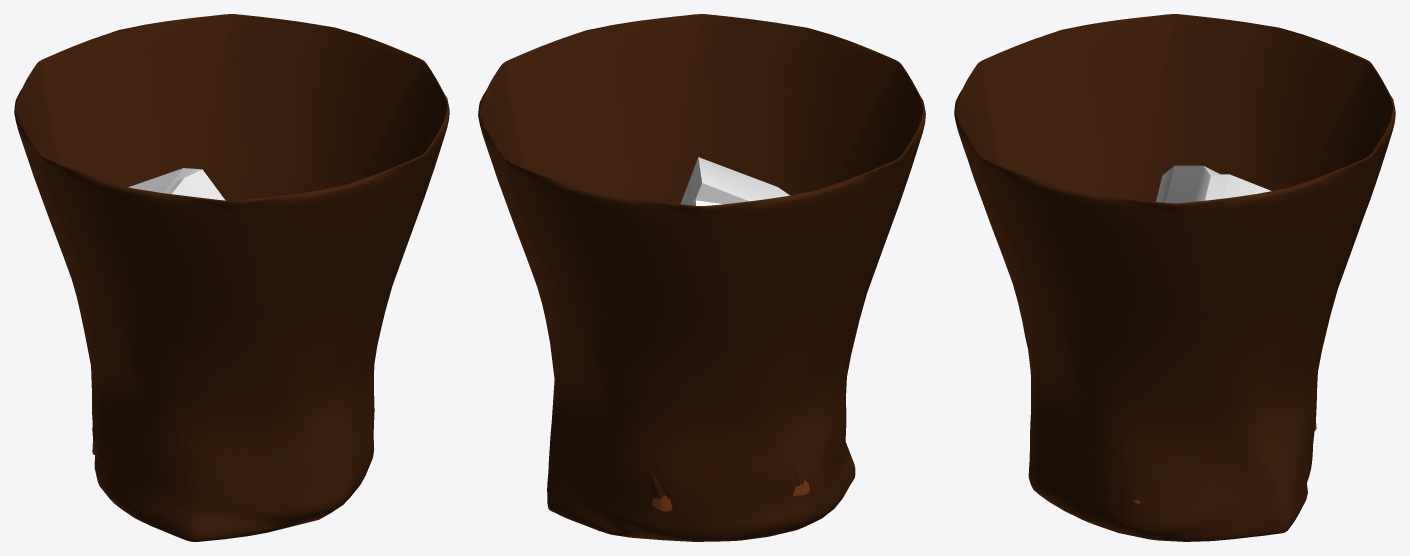
Rendered from glass.glb.
3 views of the same model, side by side, from view 1: azimuth 30°, elevation 25°; view 2: azimuth 150°, elevation 25°; view 3: azimuth 270°, elevation 25° (orthographic). The views are drawn at different scales.
Visible parts, largest first — view 1: Cylinder003, Box010; view 2: Cylinder003, Box009; view 3: Cylinder003, Box010.
Boxes of the visible parts, left/top/right/bottom form: Cylinder003: left=14, top=14, right=449, bottom=541; Box010: left=128, top=168, right=225, bottom=200; Cylinder003: left=478, top=14, right=925, bottom=541; Box009: left=680, top=157, right=789, bottom=205; Cylinder003: left=954, top=14, right=1395, bottom=541; Box010: left=1156, top=165, right=1271, bottom=203.
Bounding box in the file's own units: 0.4264 × 0.395 × 0.4182.
